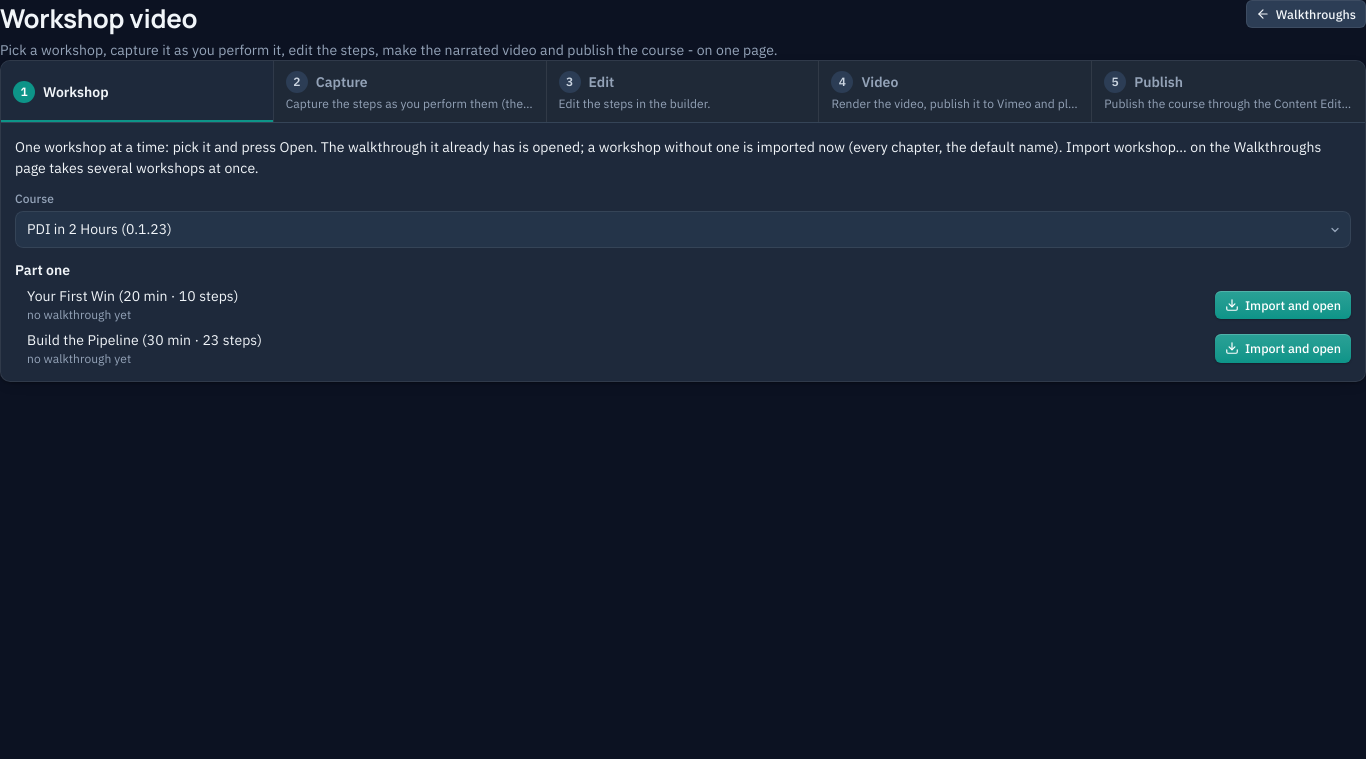
Test case: Edit, Video and Publish (C4-C6) › says when the editor is not running, with the server's one line and Publish greyed; and that the link was not placed when the setting is off
Click the button "Import and open" in the row of "Your First Win (20 min · 10 steps)" at x=1283, y=305, box [1215,291,1351,319]
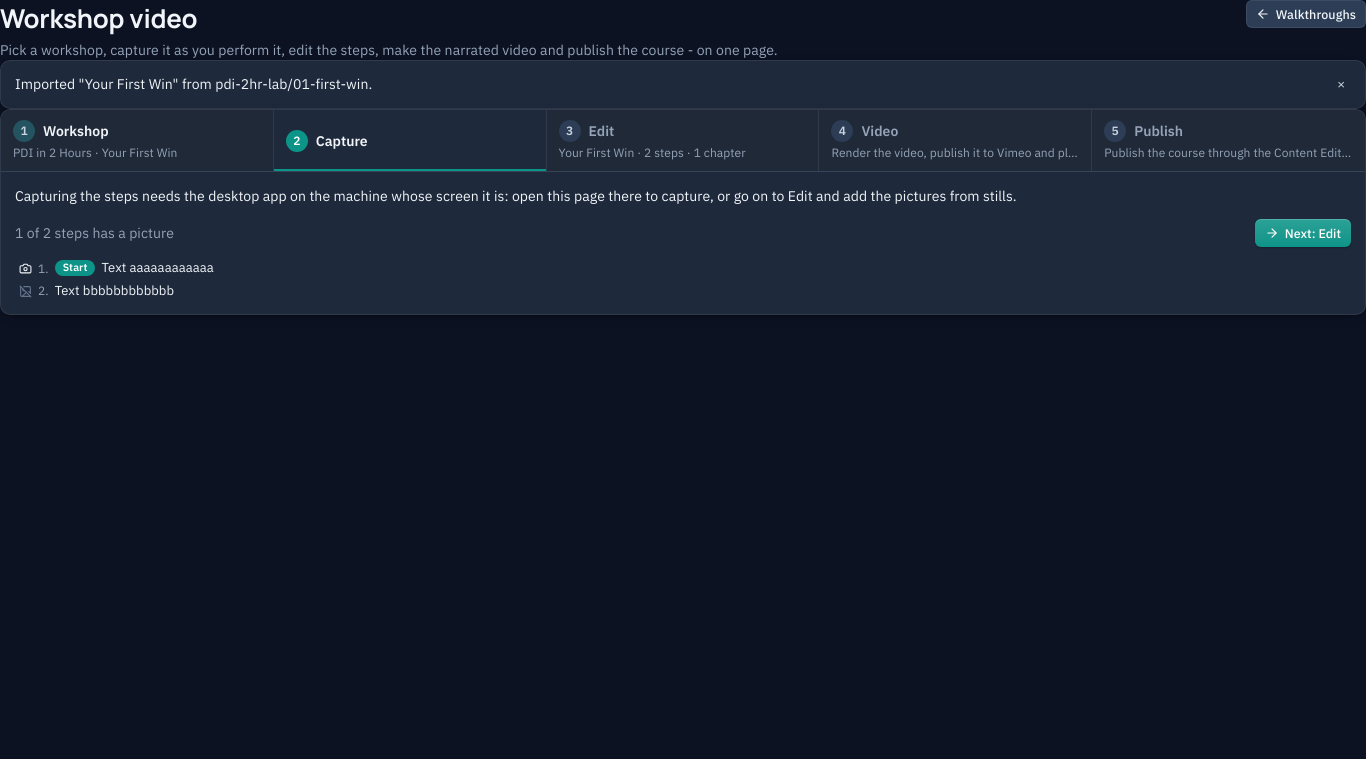
Click the button "Next: Edit" at x=1303, y=233, box [1255,219,1351,247]
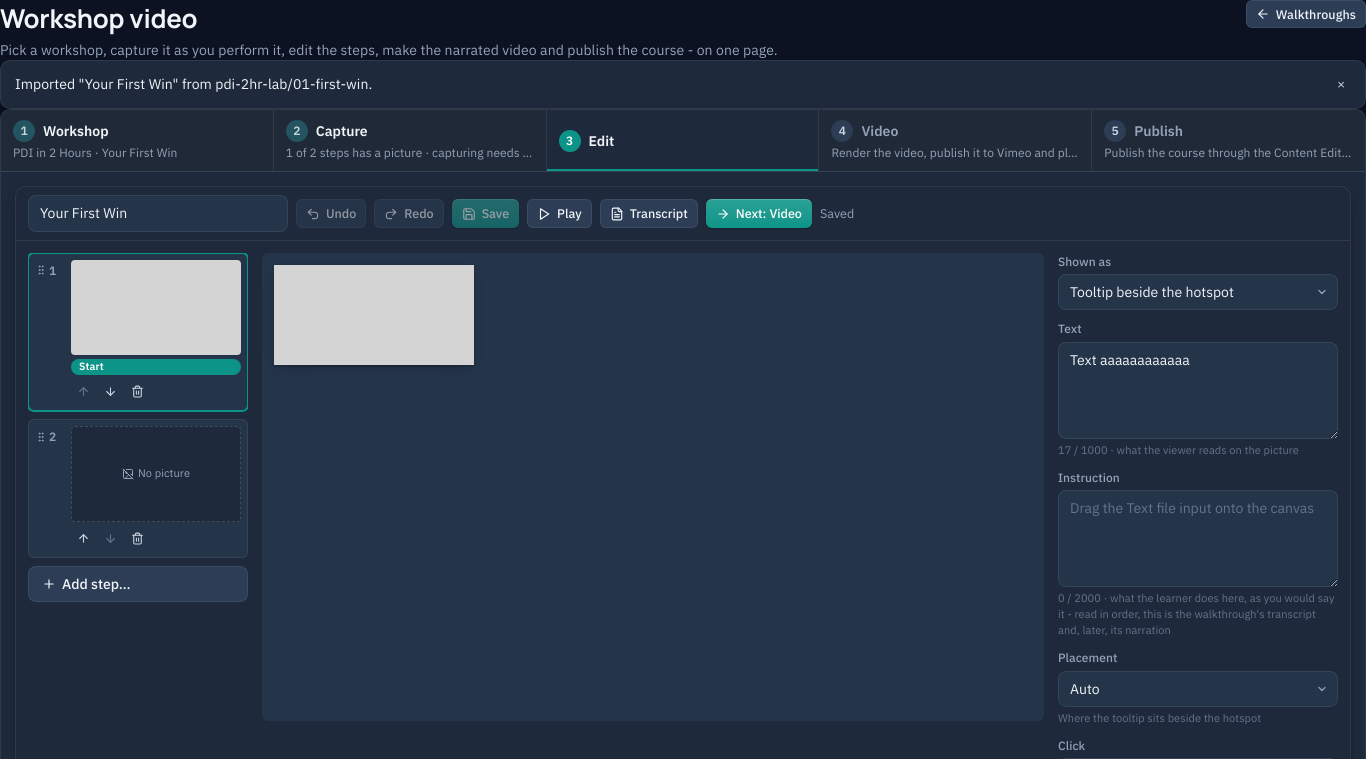
Click the button "Next: Video" at x=759, y=214, box [706,200,812,228]
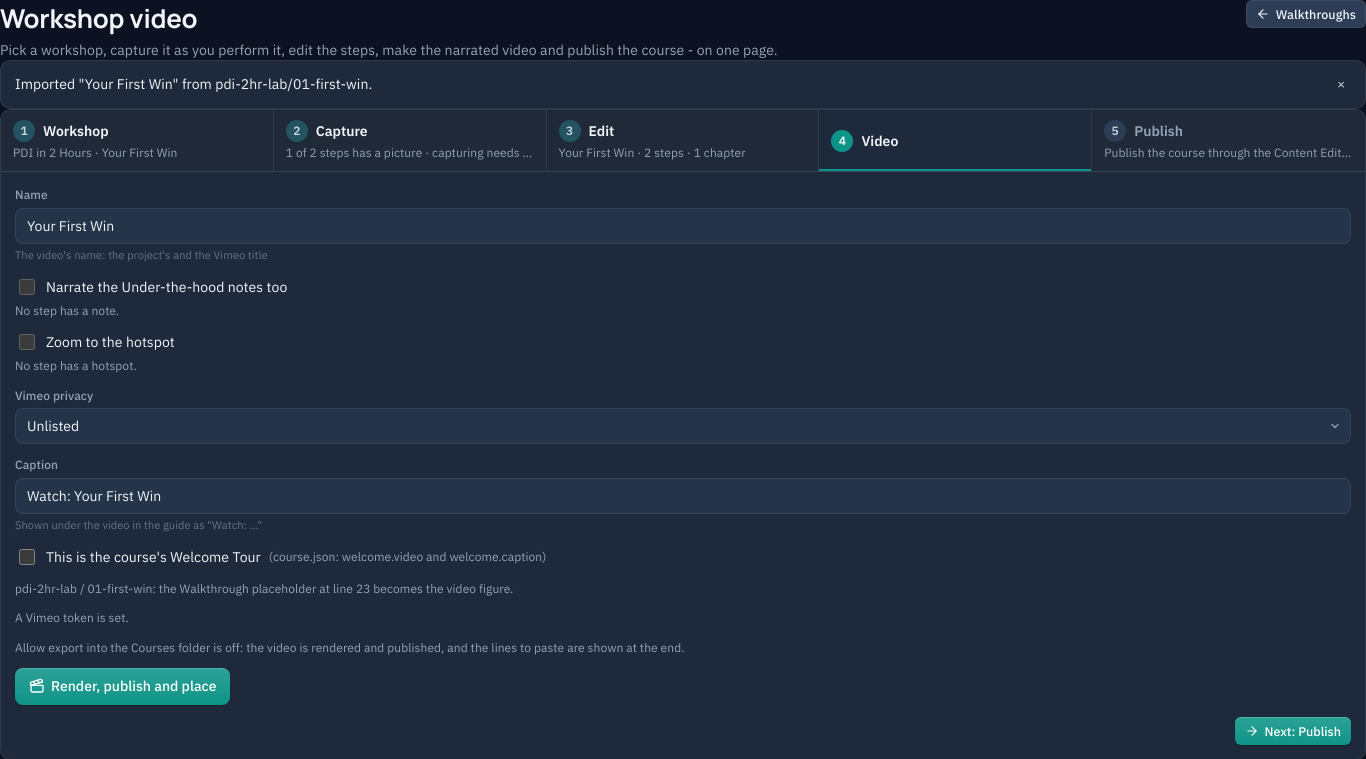
Click the button "Next: Publish" at x=1293, y=731, box [1234,717,1351,745]
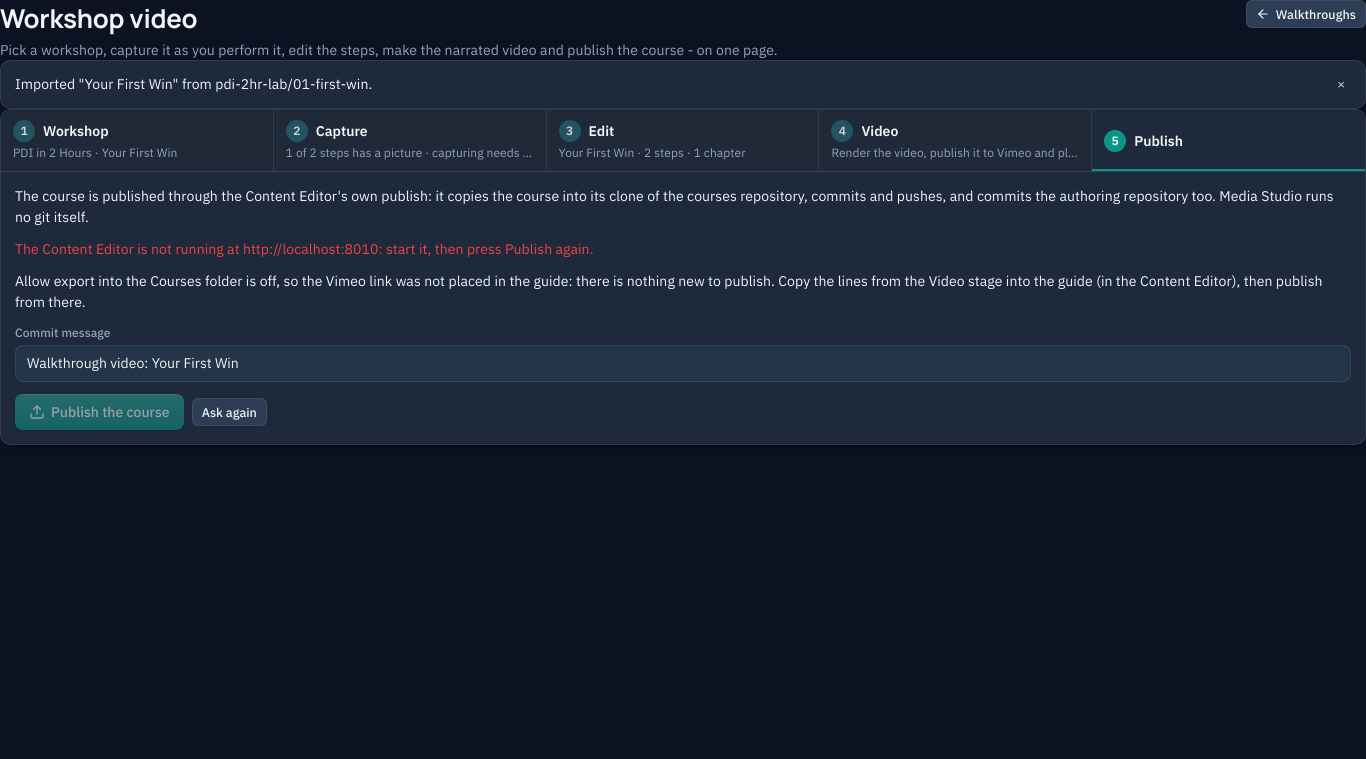
Expected: the button "Ask again" is shown, [192,398,267,426]
Expected: the text "The Content Editor is not running at http://localhost:8010: start it, then press Publish again." is shown, [15,240,594,258]
Expected: the button "Publish the course" is disabled, [15,394,184,430]
